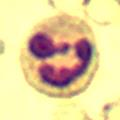neutrophil: (22, 13, 102, 98)
